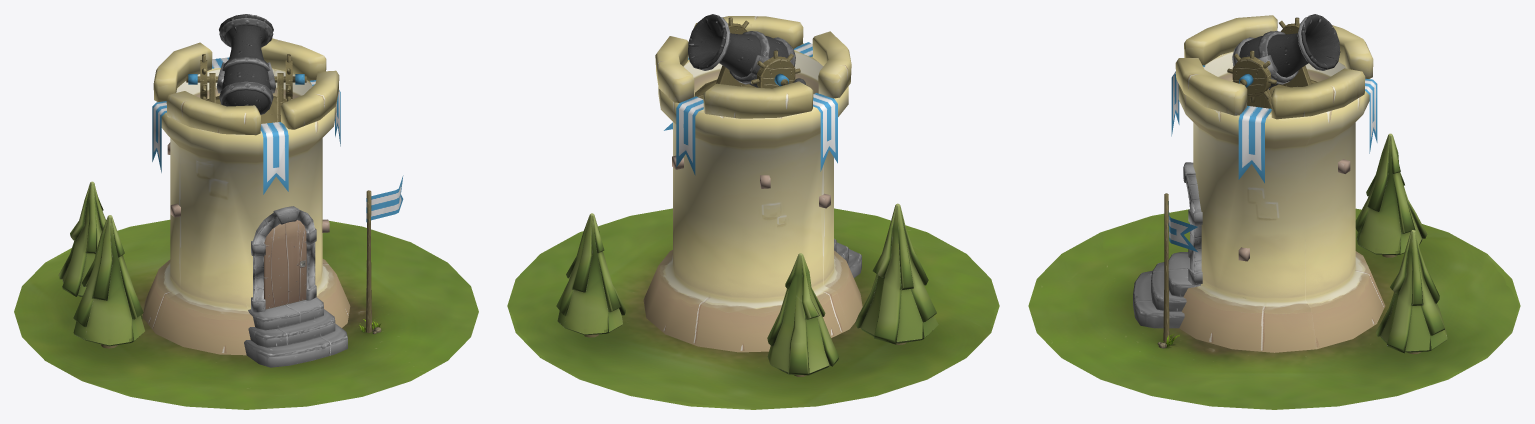
File: tower.glb
3 views of the same model, side by side, from view 1: azimuth 30°, elevation 25°; view 2: azimuth 150°, elevation 25°; view 3: azimuth 270°, elevation 25° (orthographic). The views are drawn at different scales.
Parts seen in each view (by area): view 1: Object_2, Object_3; view 2: Object_2, Object_3; view 3: Object_2, Object_3.
Part boxes in pixels (<box>): Object_2: <box>14,14,478,409</box>; Object_3: <box>142,38,350,367</box>; Object_2: <box>507,14,999,409</box>; Object_3: <box>643,16,862,352</box>; Object_2: <box>1028,14,1520,409</box>; Object_3: <box>1133,15,1385,352</box>.
Bounding box in the file's own units: 6.34 × 4.26 × 6.34.
Materials: 2 (2 with a texture image).
